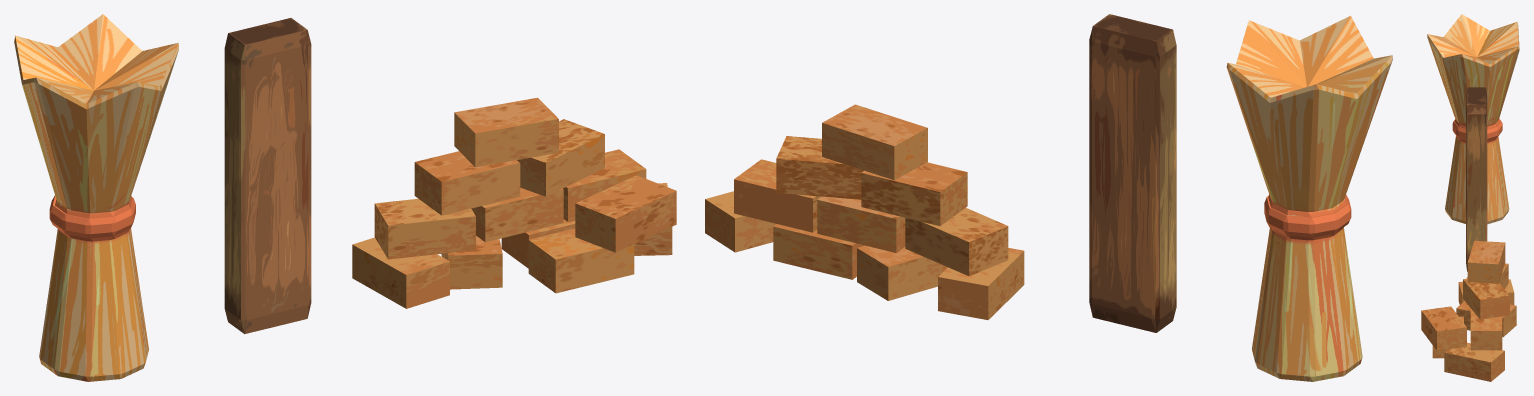
Rendered from Pickup_items.glb.
3 views of the same model, side by side, from view 1: azimuth 30°, elevation 25°; view 2: azimuth 150°, elevation 25°; view 3: azimuth 270°, elevation 25° (orthographic). The views are drawn at different scales.
Visible parts, largest first — view 1: Cube.001, Cylinder, Cube; view 2: Cube.001, Cylinder, Cube; view 3: Cylinder, Cube.001, Cube.
Part boxes in pixels (box(x1,y1,x2,y2)): Cube.001: box(352, 97, 676, 308); Cylinder: box(14, 14, 178, 381); Cube: box(224, 18, 311, 334); Cube.001: box(705, 104, 1024, 319); Cylinder: box(1226, 15, 1392, 381); Cube: box(1089, 14, 1176, 332); Cylinder: box(1427, 14, 1519, 224); Cube.001: box(1421, 240, 1516, 381); Cube: box(1466, 87, 1487, 271).
Bounding box in the file's own units: 5.52 × 2.56 × 1.24.
Materials: 3 (3 with a texture image).
